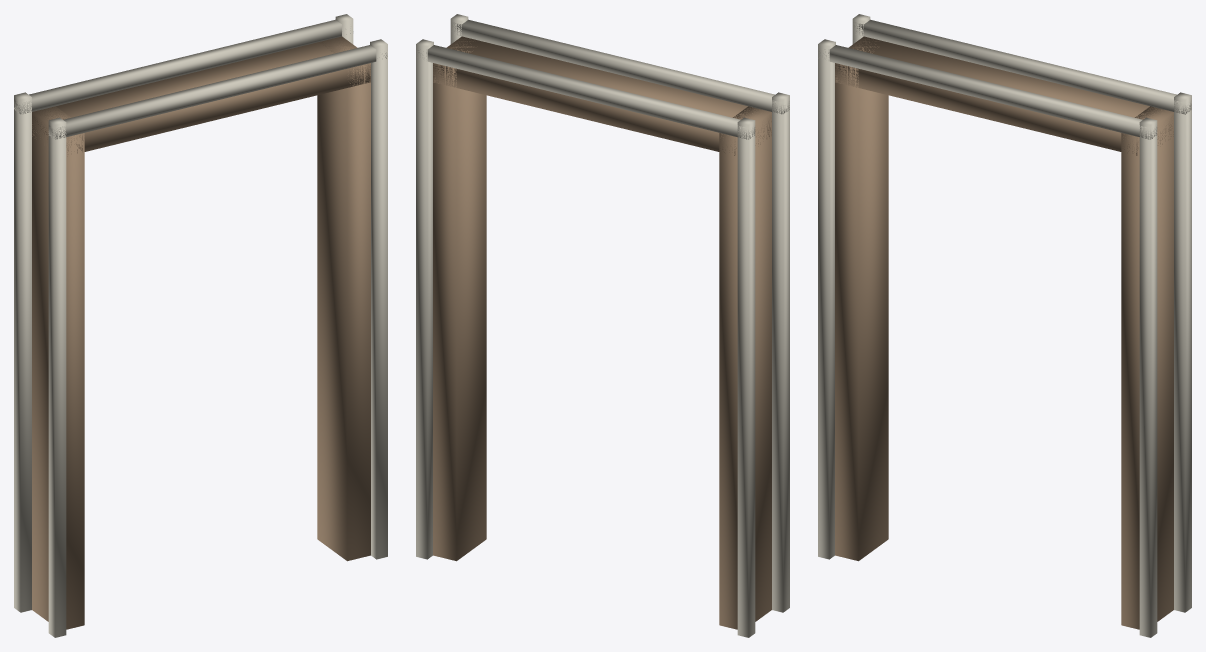
The model's file is doorway_painted_trim_w122_h210_d24.glb.
3 views of the same model, side by side, from view 1: azimuth 30°, elevation 25°; view 2: azimuth 150°, elevation 25°; view 3: azimuth 330°, elevation 25° (orthographic).
Parts seen in each view (by area): view 1: world; view 2: world; view 3: world.
Boxes of the visible parts, box(x1,y1,x2,y2) form: world: box(14, 14, 387, 637); world: box(416, 14, 789, 637); world: box(818, 14, 1191, 637).
Size of the model in its own units: 1.55 by 2.28 by 0.3296.
